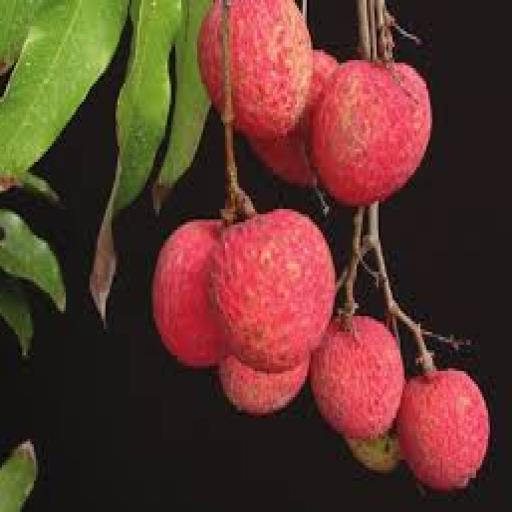lychee: (211, 209, 333, 373), (310, 61, 429, 206), (249, 50, 337, 185), (396, 369, 489, 491), (229, 0, 311, 138), (310, 317, 403, 438), (151, 220, 226, 368), (219, 356, 307, 415), (344, 432, 399, 472)
